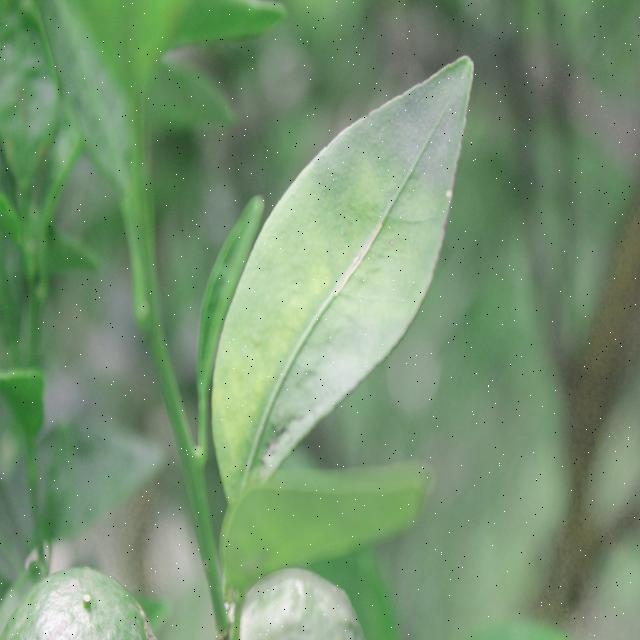greening: (212, 73, 459, 467)
